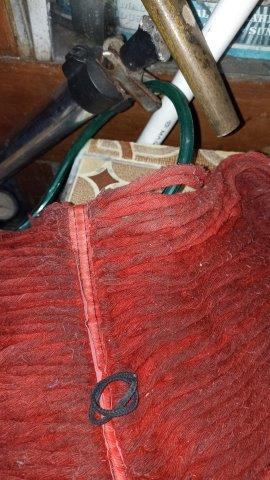karet: (88, 372, 140, 426)
